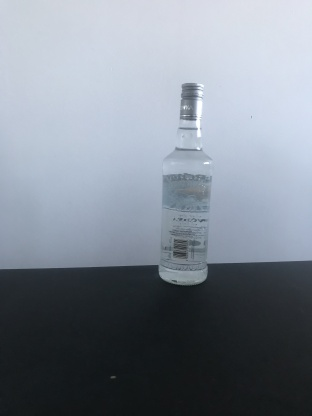nakretka: (178, 81, 204, 121)
